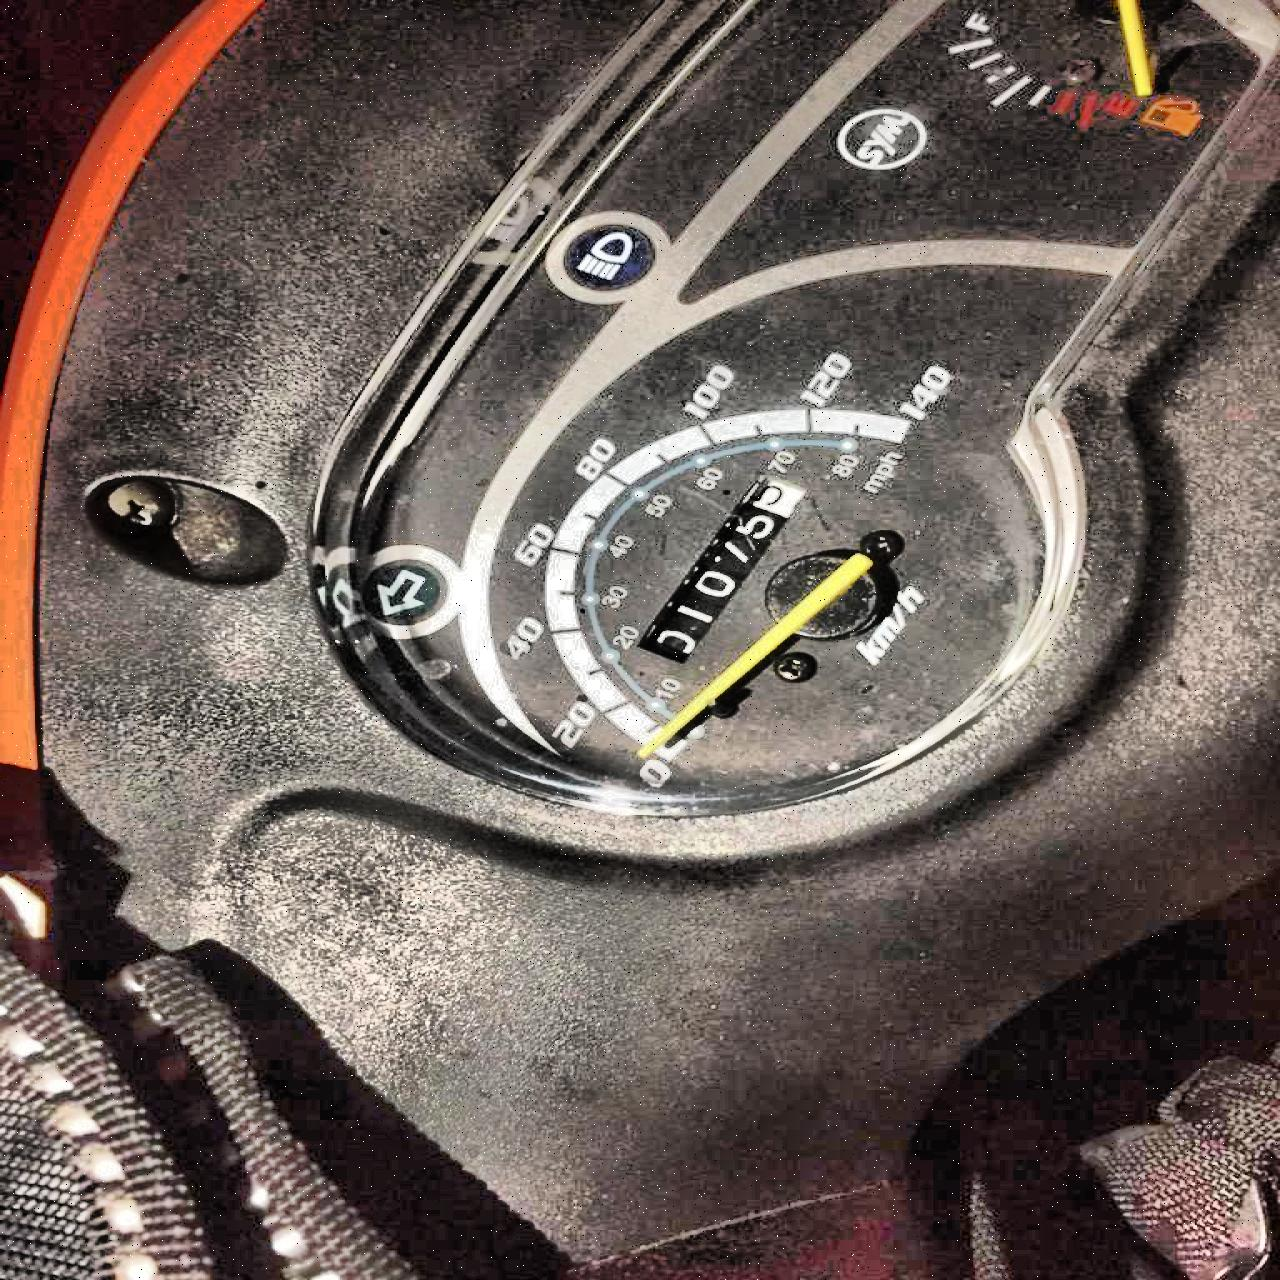0: (692, 567, 736, 598), (648, 626, 695, 653), (652, 492, 670, 506), (700, 469, 722, 479)
1: (674, 601, 714, 622)
5: (727, 510, 774, 538), (742, 478, 787, 506), (641, 503, 663, 516)
6: (692, 476, 715, 489)
7: (704, 538, 750, 564)
odometer: (628, 468, 810, 665)
